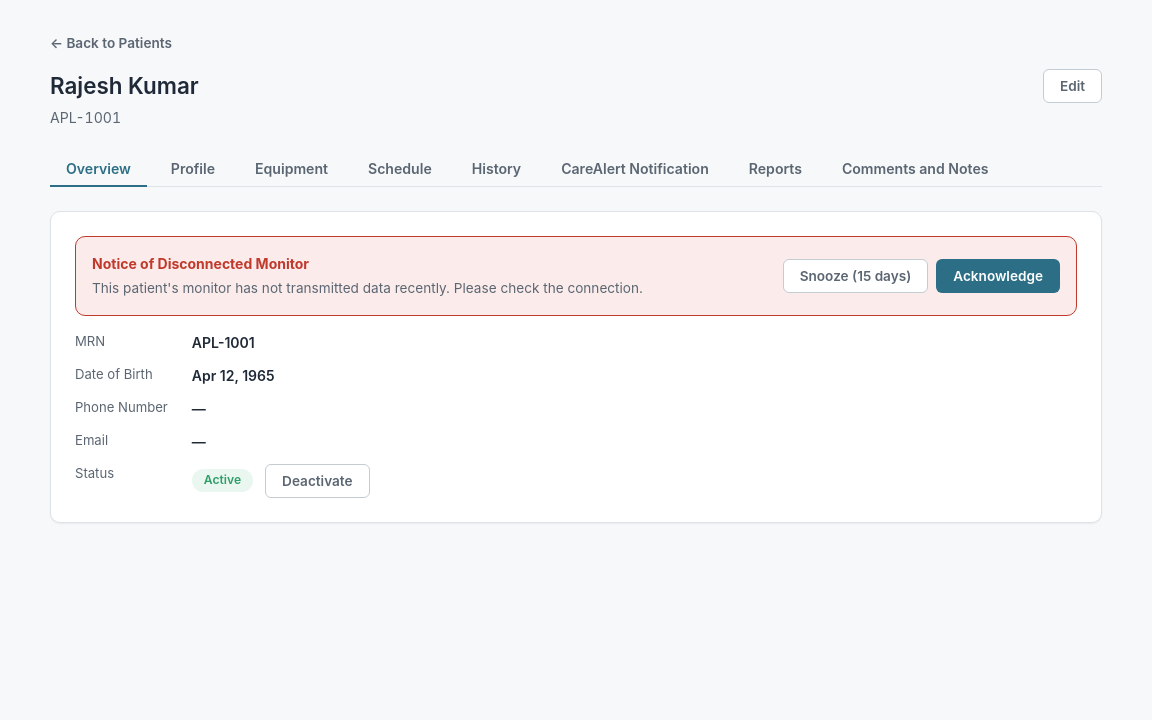
Scenario: PatientDetailComponent › renders the CareAlert Notification tab with clinic-default badges and toggles into override mode
This screenshot has width=1152, height=720.
Step 1. Click the button with class "tab" showing "CareAlert Notification" → point(635, 170), box [545,152,725,187]
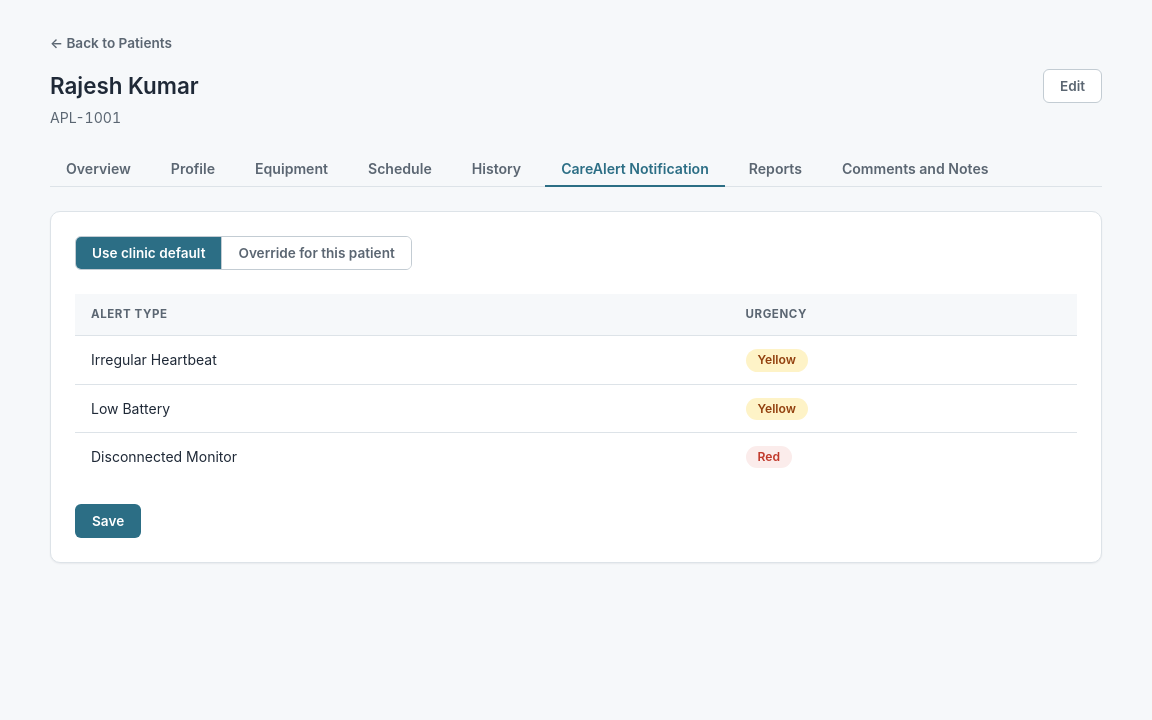
Result: the number of elements with class "urgency-badge" is 3 at [746,349,808,372]; [746,398,808,420]; [746,446,792,468]
Step 2. Click the button with class "toggle-option" showing "Override for this patient" → point(317, 253), box [222,237,411,269]
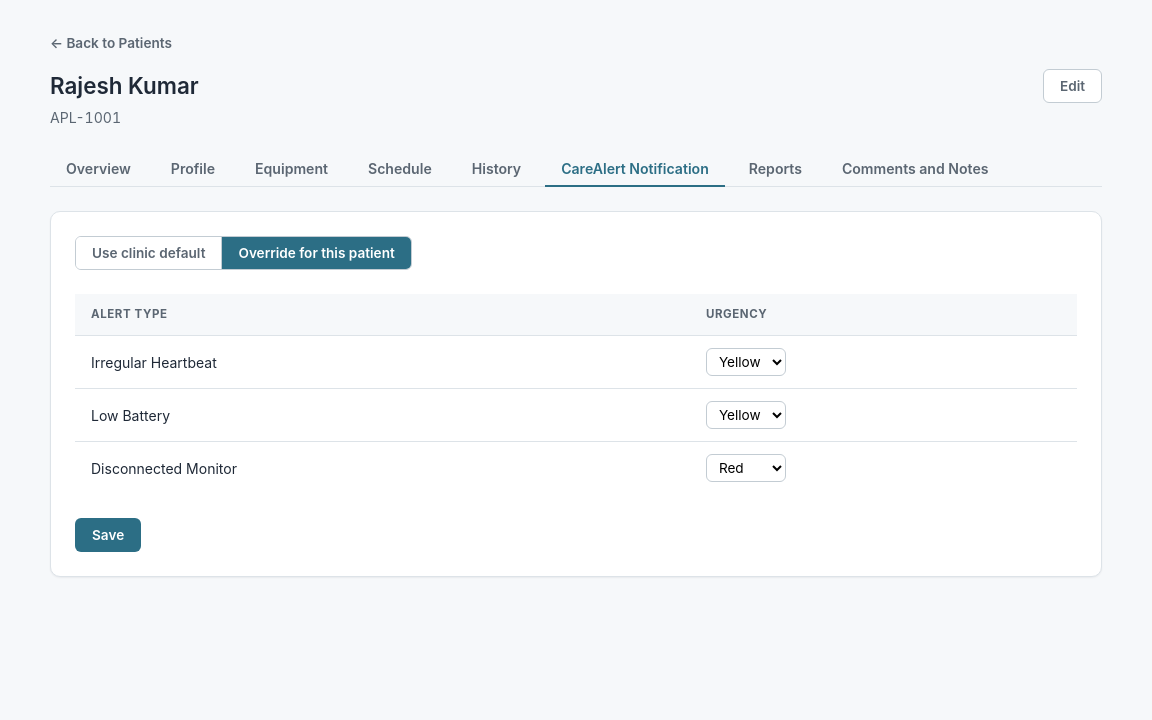
Result: the number of dropdowns with class "urgency-select" is 3 at [706,348,786,376]; [706,401,786,429]; [706,454,786,482]
Result: no elements with class "urgency-badge" are shown
